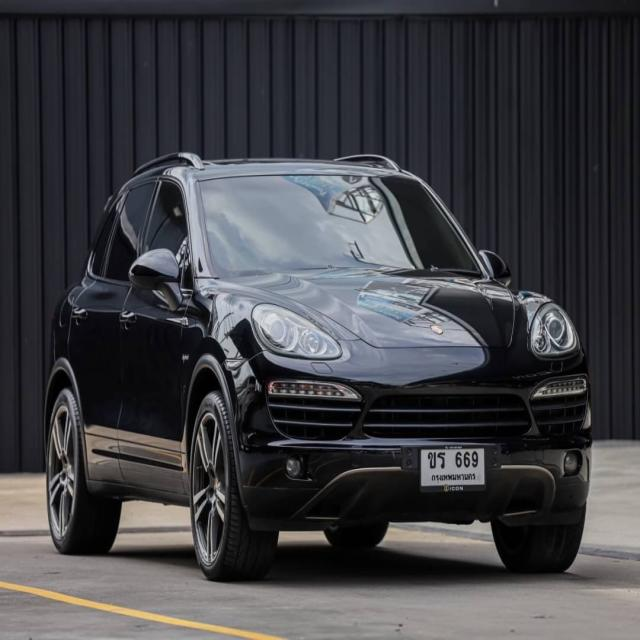license_plate: (414, 444, 488, 493)
